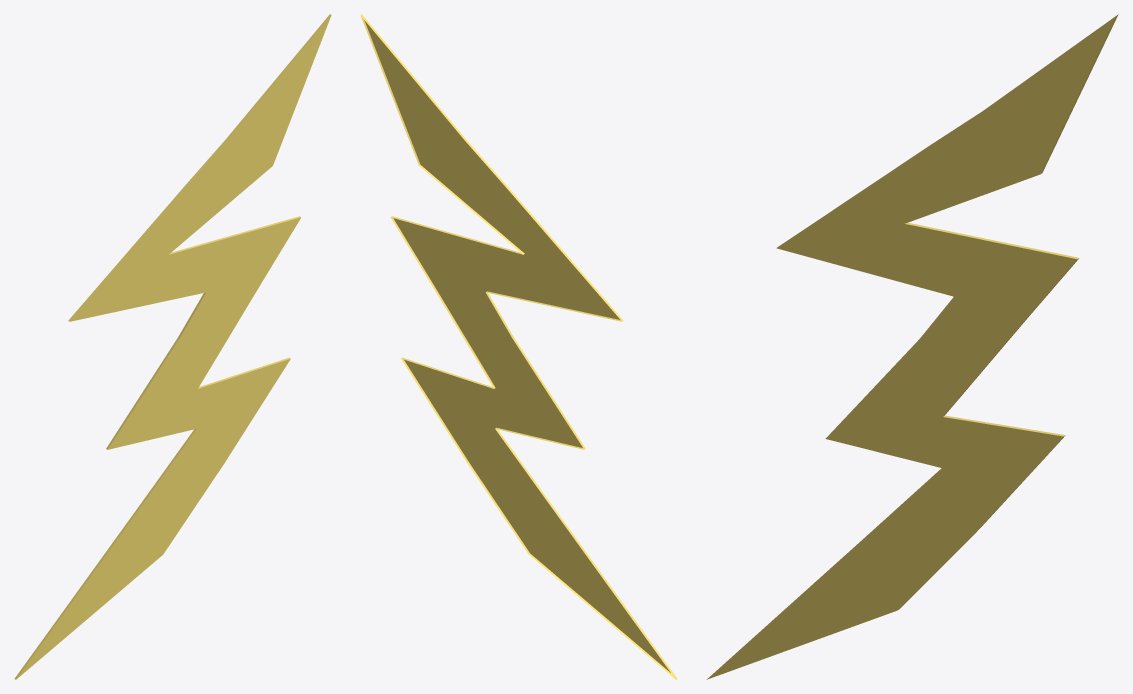
The model's file is Lightening.fbx.
The picture shows the model from 3 angles, left to right: view 1: azimuth 30°, elevation 25°; view 2: azimuth 150°, elevation 25°; view 3: azimuth 330°, elevation 25°; orthographic projection. The views are drawn at different scales.
Visible parts, largest first — view 1: Lightening; view 2: Lightening; view 3: Lightening.
Boxes of the visible parts, box(x1,y1,x2,y2) form: Lightening: box(14, 14, 331, 679); Lightening: box(360, 14, 677, 679); Lightening: box(706, 14, 1118, 679).
Size of the model in its own units: 143 by 1.21 by 255.
